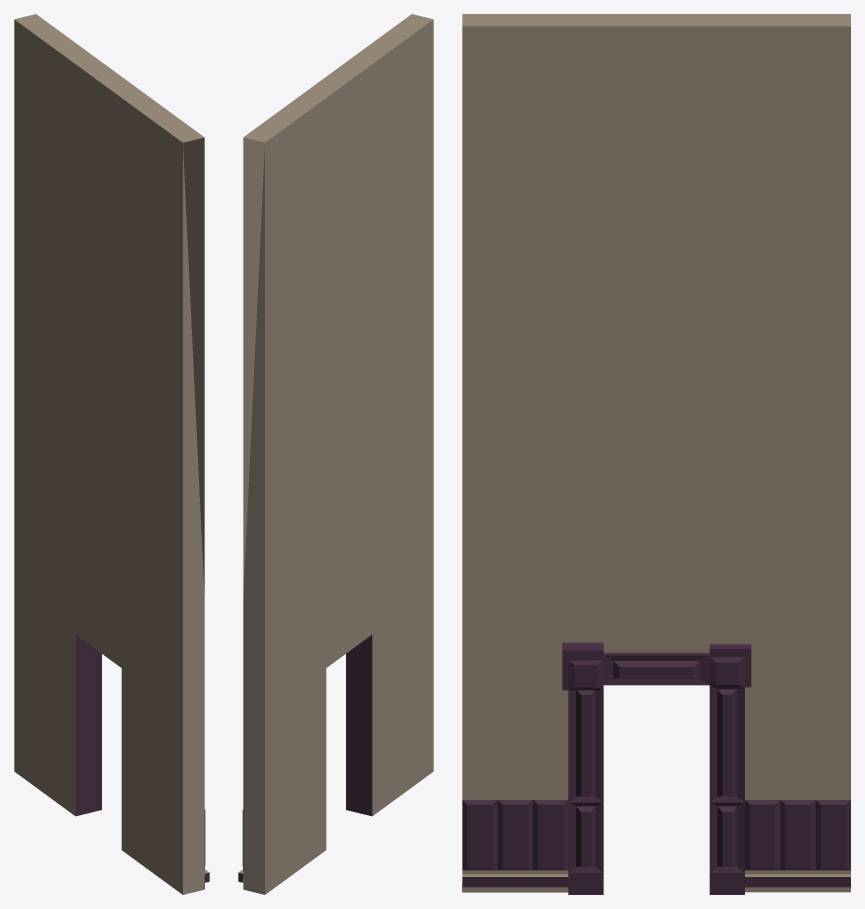
The model's file is door.fbx.
The picture shows the model from 3 angles, left to right: view 1: azimuth 30°, elevation 25°; view 2: azimuth 150°, elevation 25°; view 3: azimuth 270°, elevation 25°; orthographic projection. The views are drawn at different scales.
Parts seen in each view (by area): view 1: Porte.002; view 2: Porte.002; view 3: Porte.002.
Part boxes in pixels (x1,y1,x2,y2): Porte.002: [14, 14, 209, 894]; Porte.002: [238, 14, 433, 894]; Porte.002: [462, 14, 850, 894].
Size of the model in its own units: 341 by 6584 by 2678.
